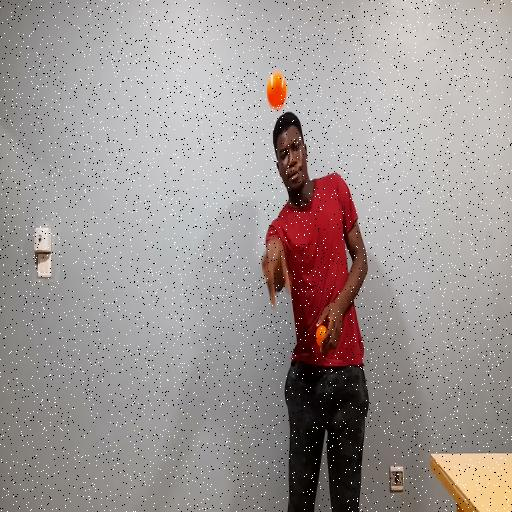plastic-ball: (261, 63, 293, 117)
